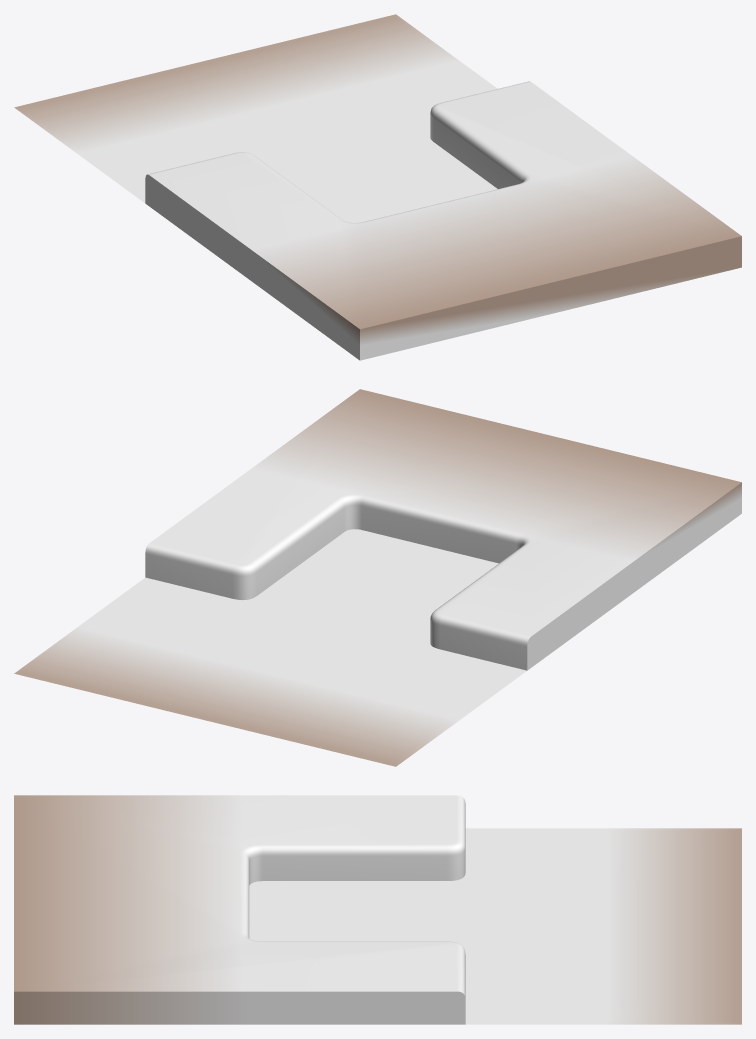
The model's file is BigBase.fbx.
3 views of the same model, one above another, from view 1: azimuth 30°, elevation 25°; view 2: azimuth 150°, elevation 25°; view 3: azimuth 270°, elevation 25° (orthographic). The views are drawn at different scales.
Visible parts, largest first — view 1: BigBase; view 2: BigBase; view 3: BigBase.
Part boxes in pixels (x1,y1,x2,y2): BigBase: [14, 14, 741, 360]; BigBase: [14, 389, 741, 766]; BigBase: [14, 795, 741, 1024].
Bounding box in the file's own units: 1860 × 146 × 2918.
Materials: 1 (1 with a texture image).
